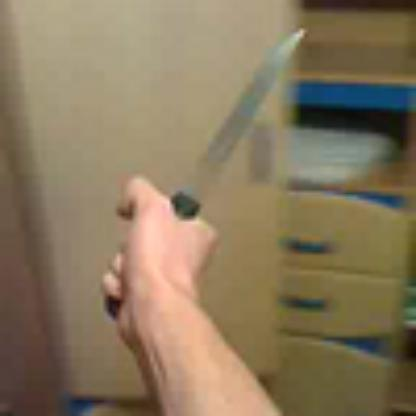knives: (108, 29, 320, 311)
